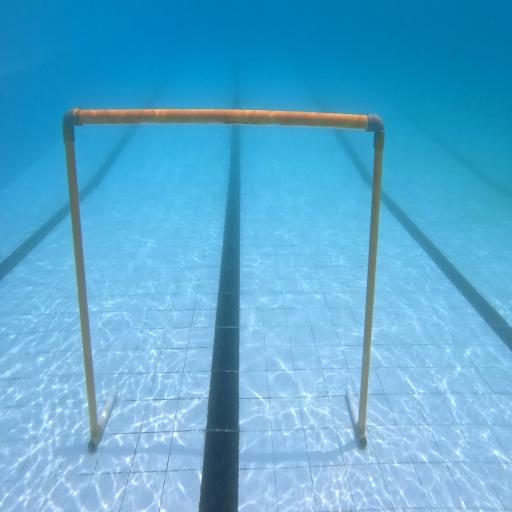gate: (62, 108, 384, 452)
